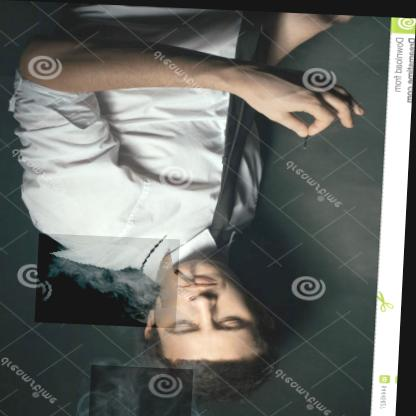smoke: (38, 233, 183, 327), (93, 364, 197, 416)
